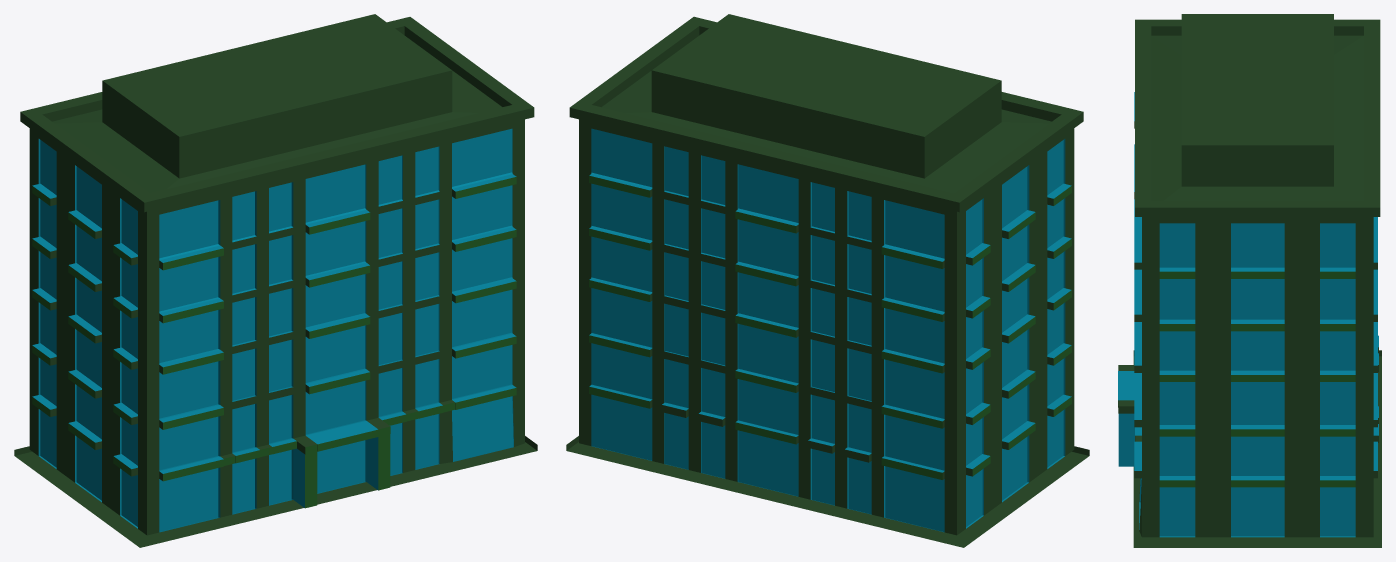
File: cao oc 2.fbx
3 views of the same model, side by side, from view 1: azimuth 30°, elevation 25°; view 2: azimuth 150°, elevation 25°; view 3: azimuth 270°, elevation 25° (orthographic).
Parts seen in each view (by area): view 1: Cube.001; view 2: Cube.001; view 3: Cube.001.
Part boxes in pixels (x1,y1,x2,y2): Cube.001: (14,14,537,547); Cube.001: (566,14,1089,547); Cube.001: (1118,14,1381,547).
Size of the model in its own units: 1569 by 1425 by 913.
